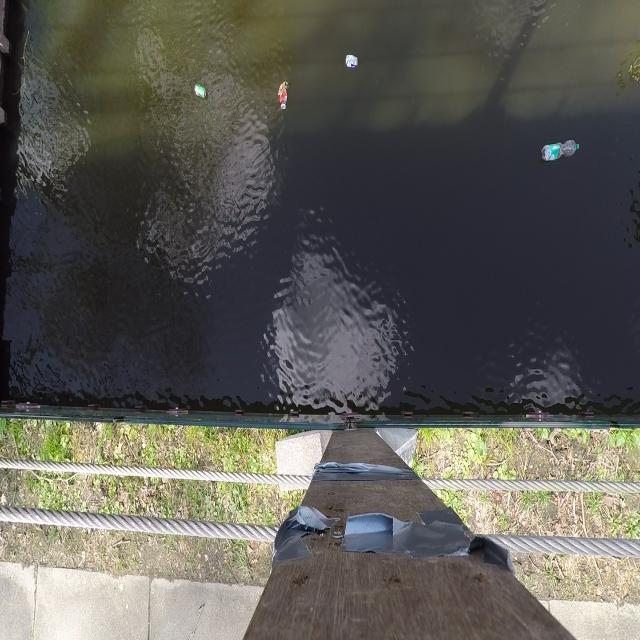Bouteille plastique: (538, 130, 581, 170)
Non plastique: (340, 50, 363, 75), (191, 77, 210, 104), (278, 89, 291, 114)
